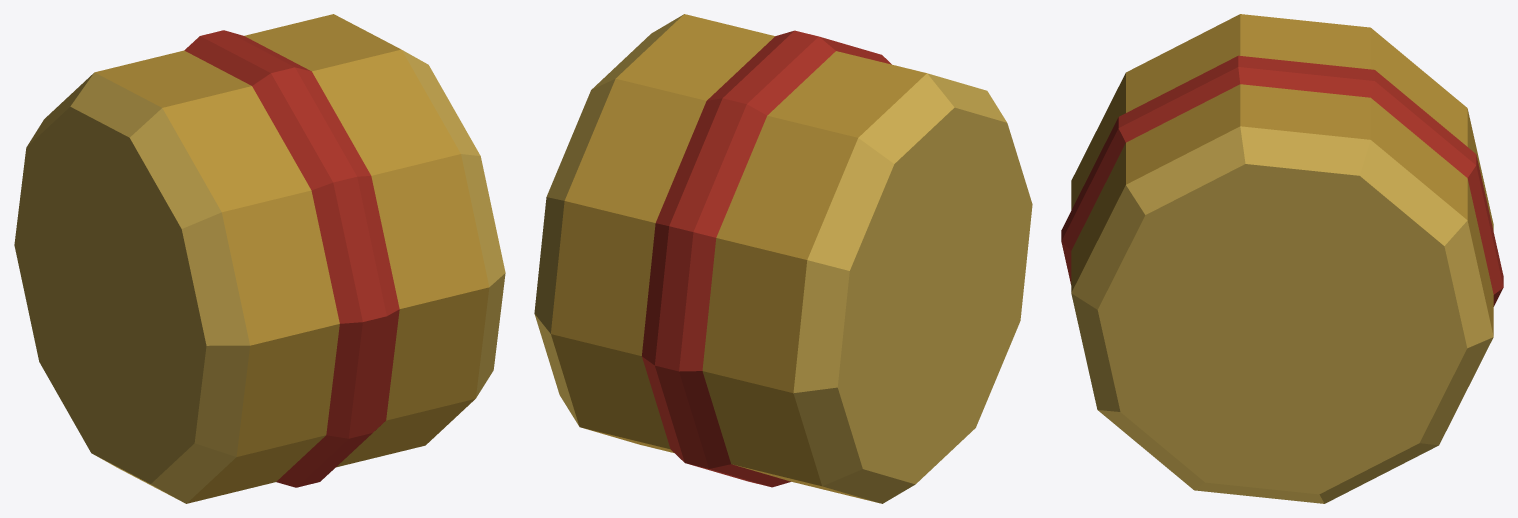
The model's file is hay_bale.glb.
3 views of the same model, side by side, from view 1: azimuth 30°, elevation 25°; view 2: azimuth 150°, elevation 25°; view 3: azimuth 270°, elevation 25° (orthographic). The views are drawn at different scales.
Parts seen in each view (by area): view 1: hay_bale; view 2: hay_bale; view 3: hay_bale.
Part boxes in pixels (x1,y1,x2,y2): hay_bale: [14, 14, 505, 503]; hay_bale: [534, 14, 1032, 503]; hay_bale: [1061, 14, 1503, 503].
Size of the model in its own units: 0.5 by 0.6566 by 0.6656.
